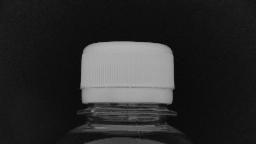Good Cap: (70, 35, 180, 120)
